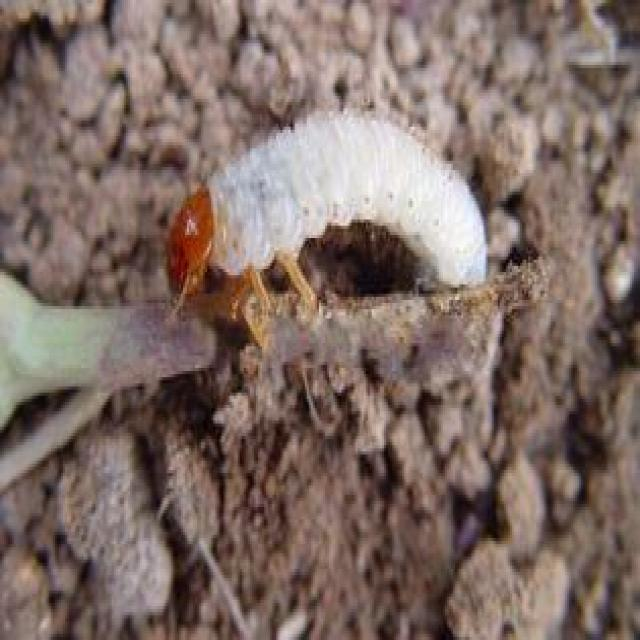Grub-Adult-: (164, 107, 493, 326)
